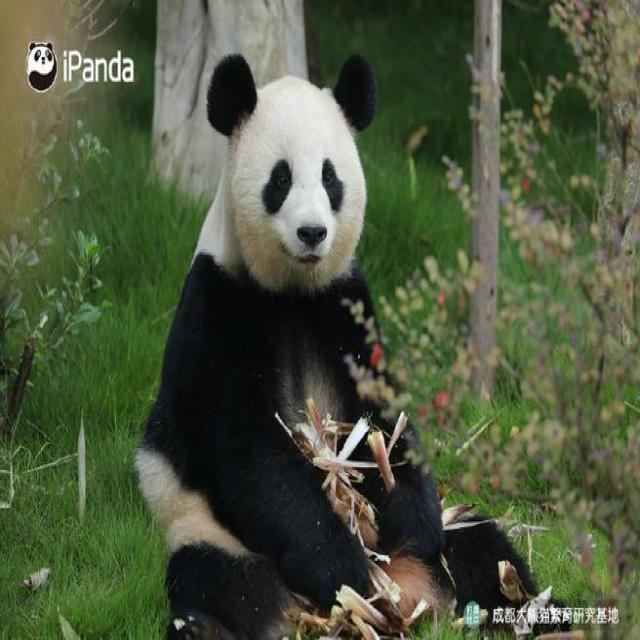panda: (140, 42, 584, 624)
